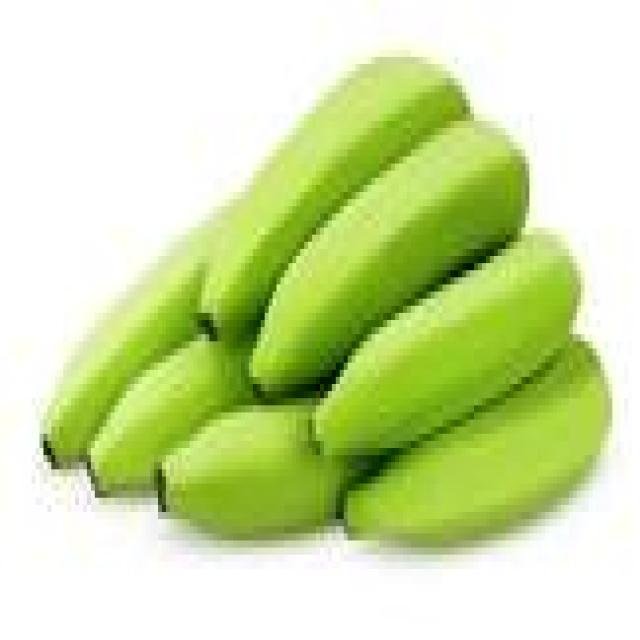banana: (253, 121, 529, 391), (202, 57, 470, 334), (317, 235, 580, 455), (344, 342, 612, 547), (44, 214, 221, 462), (159, 399, 355, 540), (87, 335, 252, 497)
